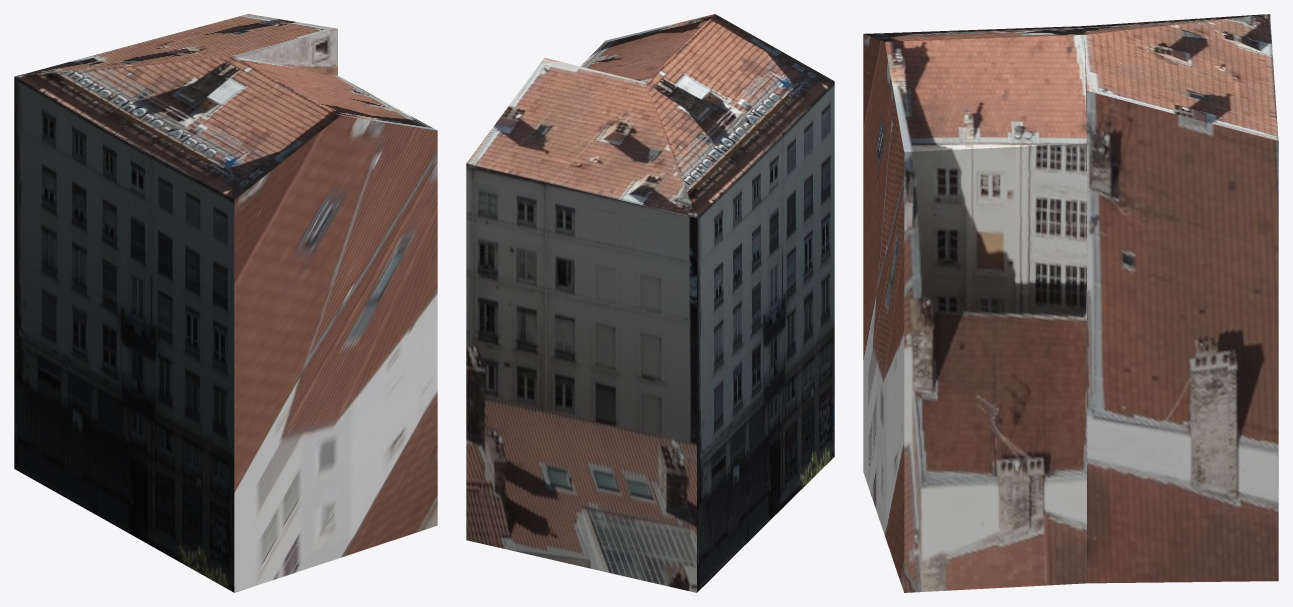
The picture shows the model from 3 angles, left to right: view 1: azimuth 30°, elevation 25°; view 2: azimuth 150°, elevation 25°; view 3: azimuth 270°, elevation 25°; orthographic projection. The views are drawn at different scales.
Visible parts, largest first — view 1: Z_UP; view 2: Z_UP; view 3: Z_UP.
Boxes of the visible parts, x1,y1,x2,y2 form: Z_UP: (14,14,437,592); Z_UP: (466,14,834,592); Z_UP: (863,14,1278,592).
Bounding box in the file's own units: 15.84 × 25.79 × 19.66.
Materials: 2 (1 with a texture image).
